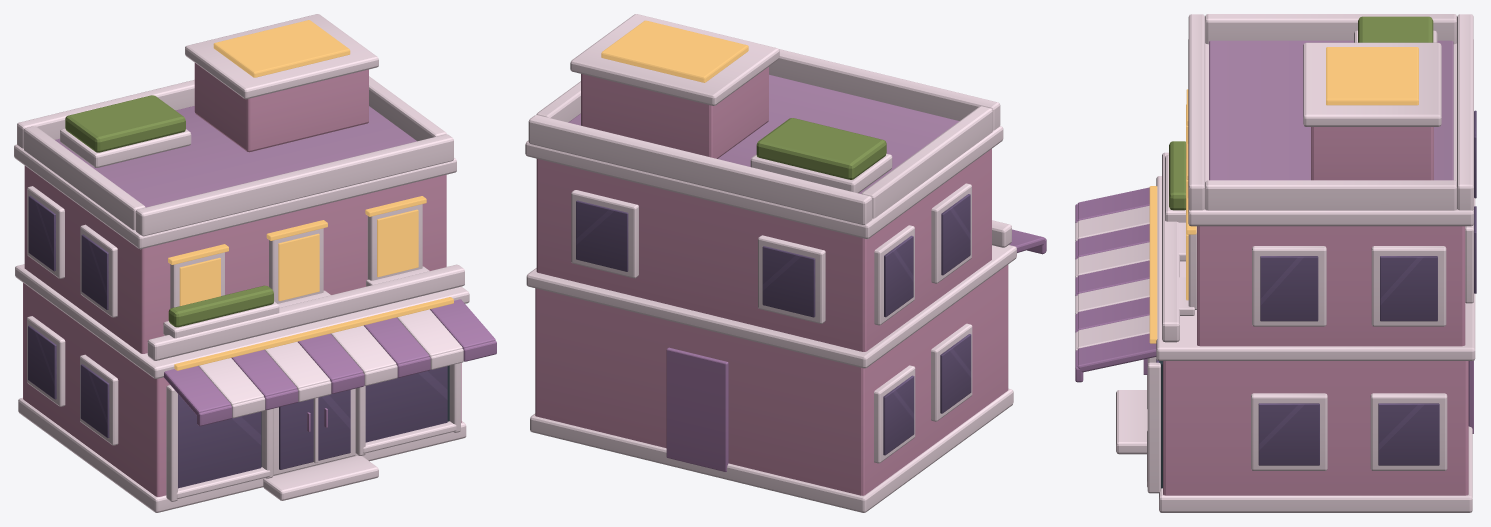
The model's file is 04D-market-blender.glb.
3 views of the same model, side by side, from view 1: azimuth 30°, elevation 25°; view 2: azimuth 150°, elevation 25°; view 3: azimuth 270°, elevation 25° (orthographic). The views are drawn at different scales.
Visible parts, largest first — view 1: 04D Rose Twilight; view 2: 04D Rose Twilight; view 3: 04D Rose Twilight.
Part boxes in pixels (box(x1,y1,x2,y2)): 04D Rose Twilight: box(14, 14, 496, 512); 04D Rose Twilight: box(525, 14, 1046, 512); 04D Rose Twilight: box(1075, 14, 1476, 512).
Bounding box in the file's own units: 6.28 × 6.49 × 6.04.
8 materials, 8 textured.
